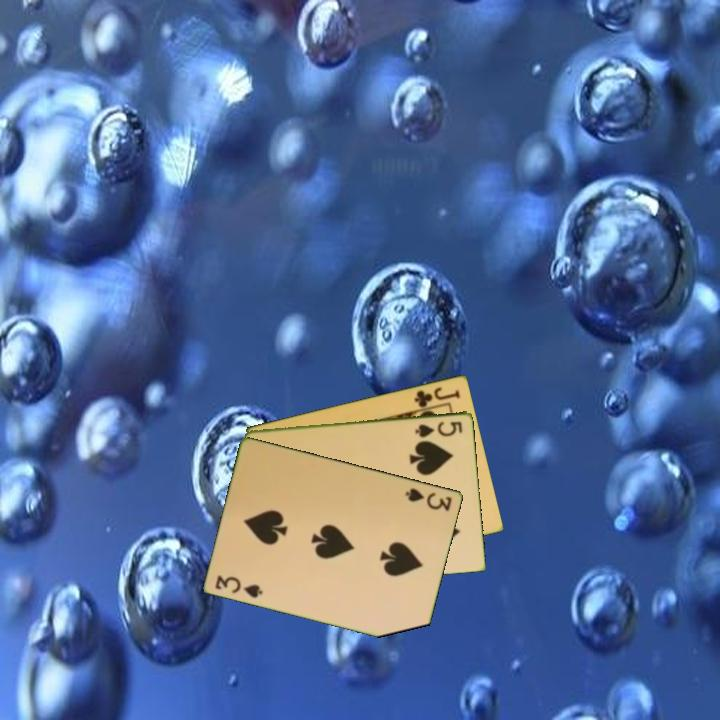3s: (212, 571, 266, 601), (402, 484, 455, 514)
5s: (412, 418, 465, 440)
Jc: (411, 383, 463, 410)
